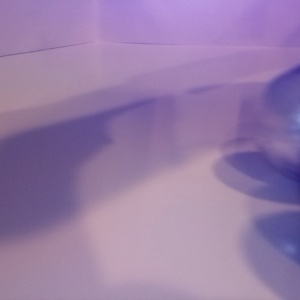alive_ball: (257, 64, 300, 177)
